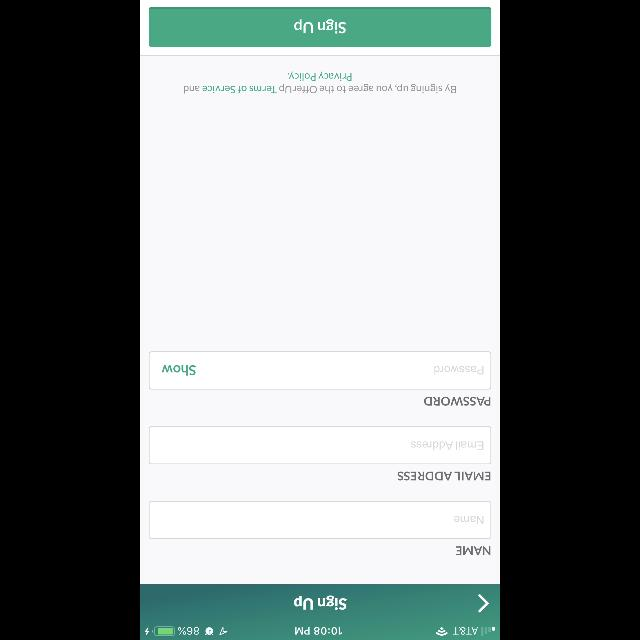icon: (478, 594, 488, 612)
input: (149, 351, 491, 389), (149, 426, 491, 464), (149, 501, 491, 539)
text: (184, 71, 456, 93), (294, 594, 346, 610), (398, 472, 490, 481), (424, 396, 490, 406), (411, 441, 483, 449), (162, 364, 196, 376), (434, 366, 484, 374), (456, 546, 490, 556), (454, 516, 484, 524)
textbutton: (149, 7, 491, 47)
uppertaskbar: (140, 626, 500, 640)
